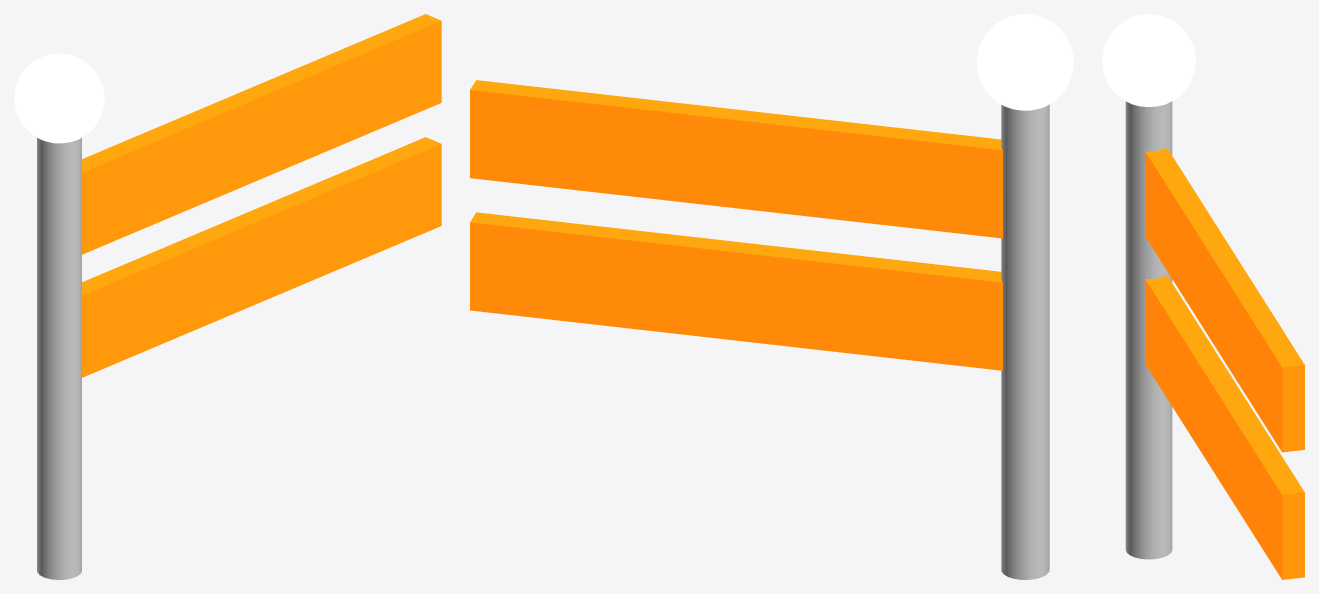
File: StreeDecoOnLamp_1.fbx
3 renders of one model, left to right at view 1: azimuth 30°, elevation 25°; view 2: azimuth 150°, elevation 25°; view 3: azimuth 270°, elevation 25°, orthographic. The views are drawn at different scales.
Parts seen in each view (by area): view 1: ChineseDeco__27_, ChineseDeco__28_, Lampost, LampLight; view 2: ChineseDeco__28_, ChineseDeco__27_, Lampost, LampLight; view 3: ChineseDeco__27_, ChineseDeco__28_, Lampost, LampLight.
Boxes of the visible parts, x1,y1,x2,y2 form: ChineseDeco__27_: [82, 14, 441, 254]; ChineseDeco__28_: [82, 137, 441, 377]; Lampost: [37, 137, 81, 579]; LampLight: [14, 53, 104, 143]; ChineseDeco__28_: [470, 212, 1002, 370]; ChineseDeco__27_: [470, 80, 1002, 238]; Lampost: [1001, 104, 1049, 579]; LampLight: [977, 14, 1073, 110]; ChineseDeco__27_: [1145, 148, 1304, 452]; ChineseDeco__28_: [1145, 275, 1304, 579]; Lampost: [1125, 101, 1172, 559]; LampLight: [1102, 14, 1195, 106].
Size of the model in its own units: 310 by 312 by 108.
